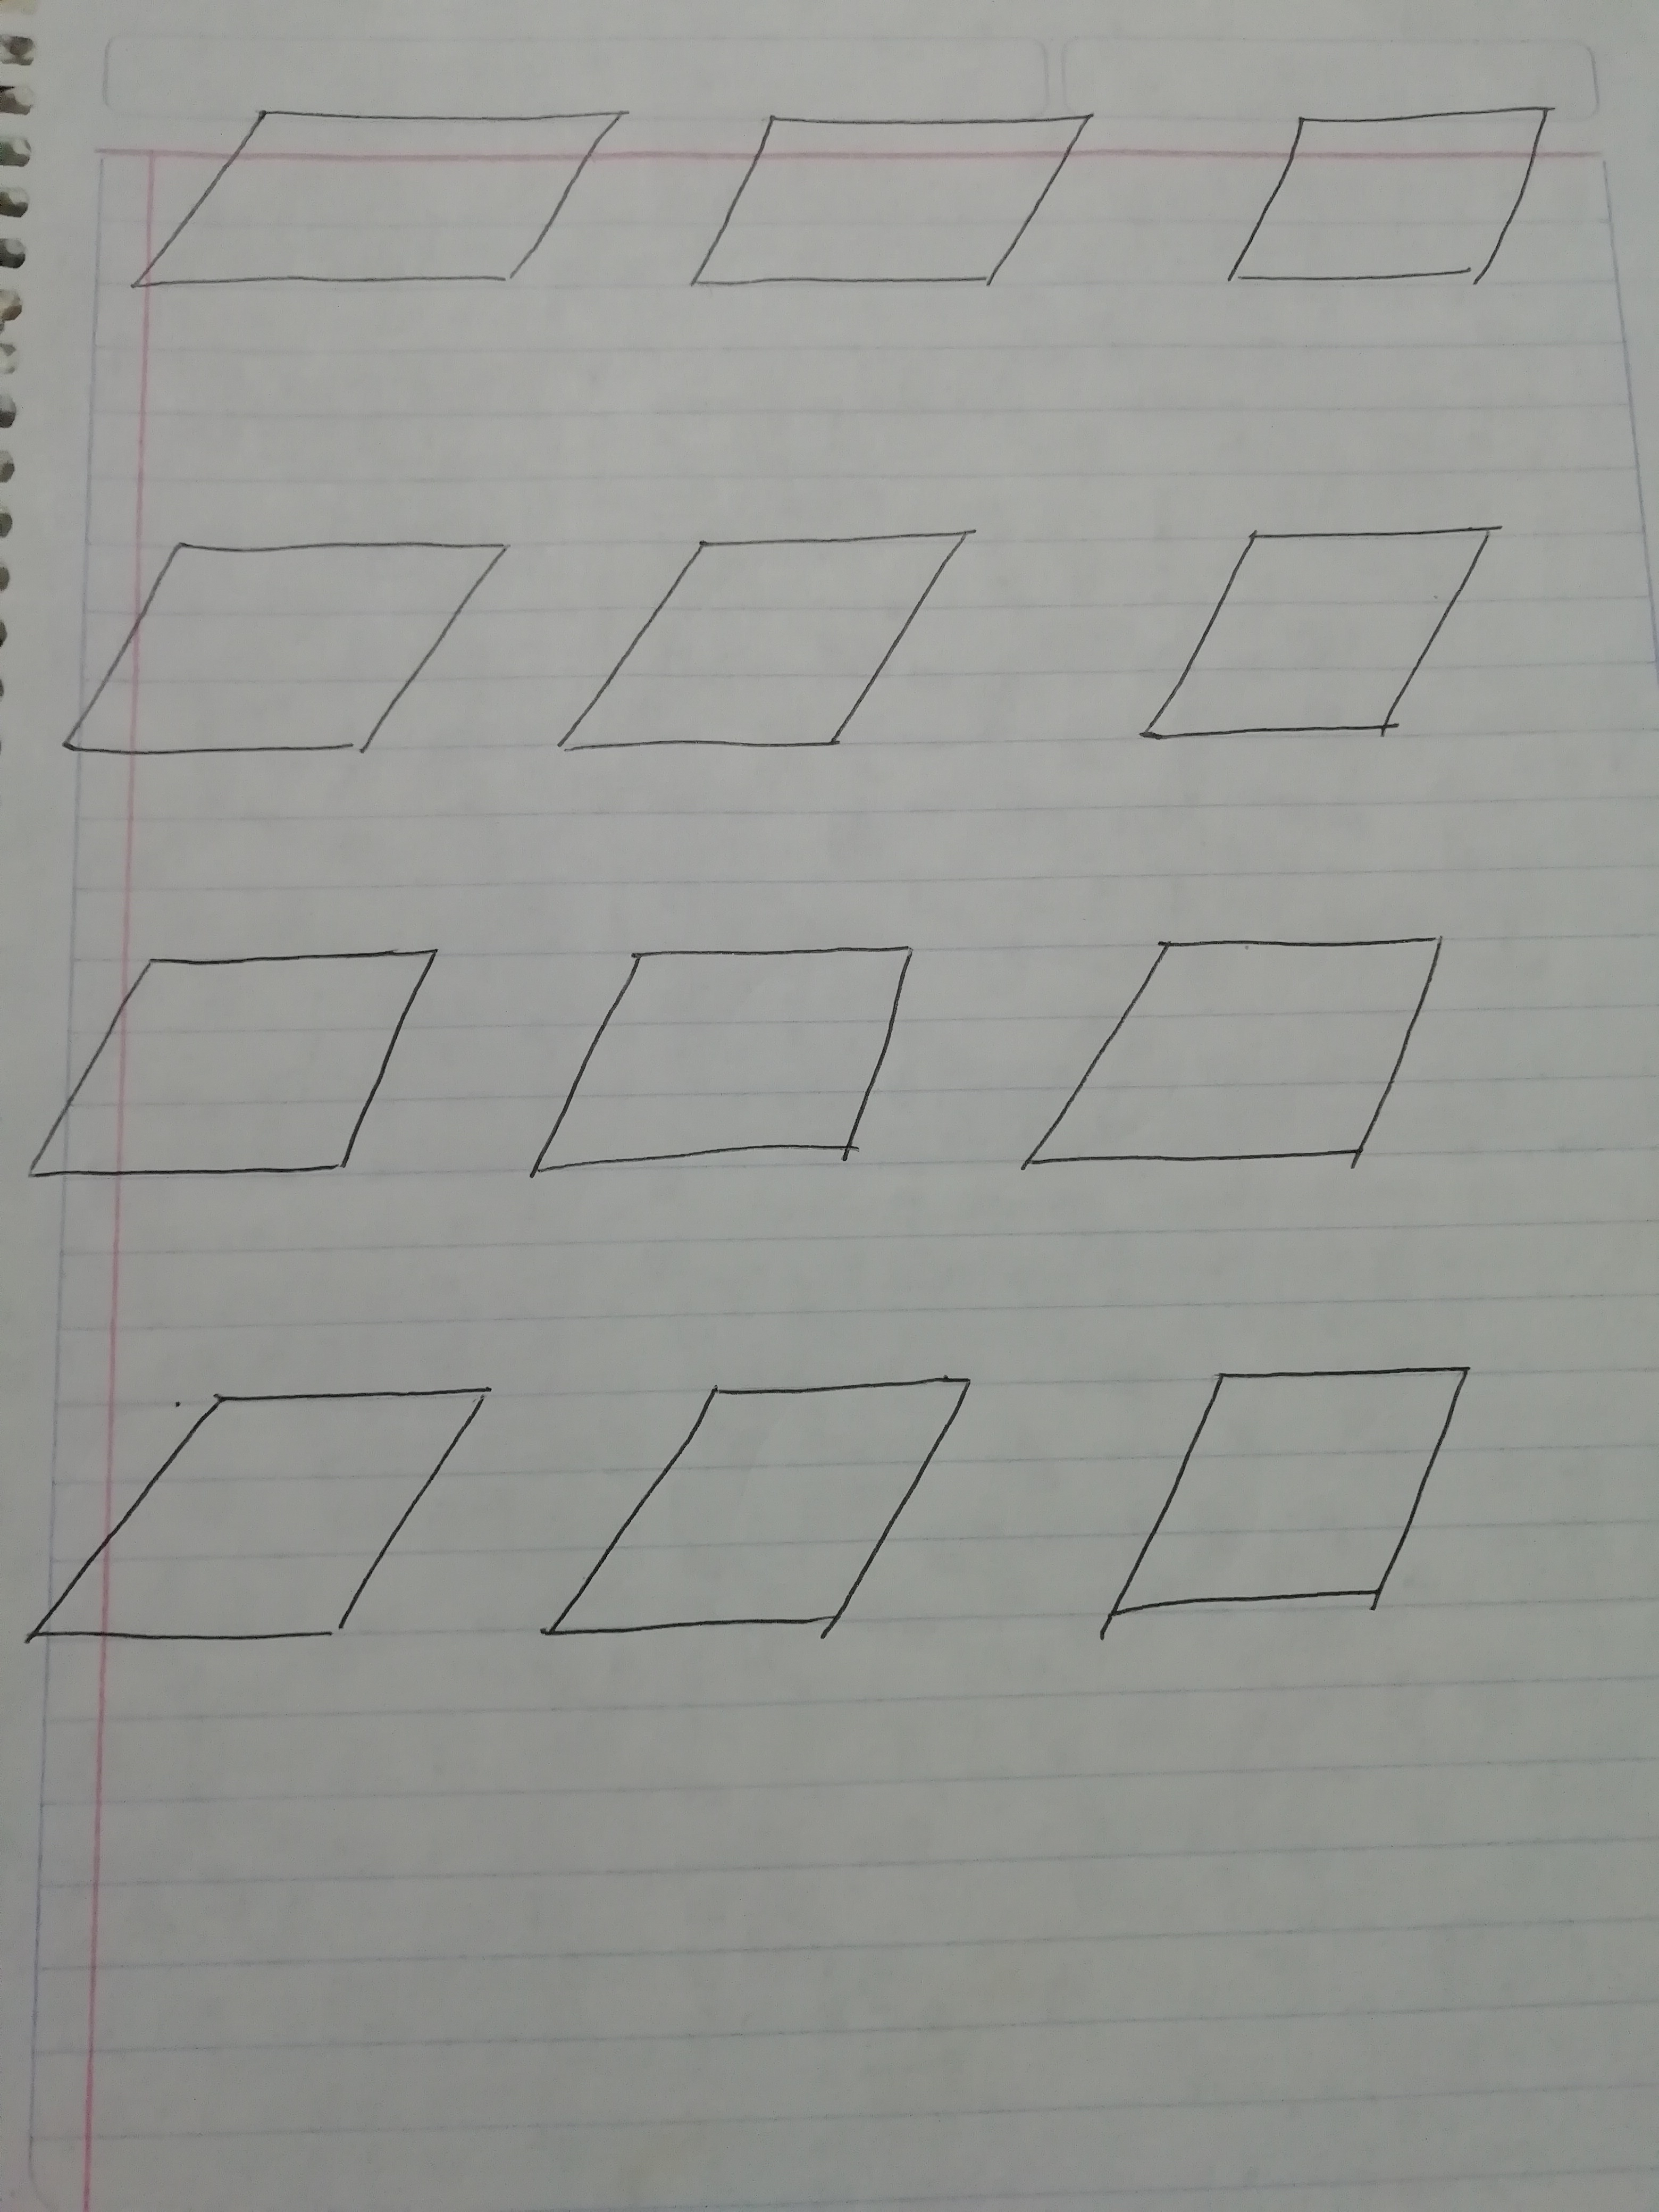scan: (9, 1332, 523, 1740), (530, 1350, 1026, 1723), (77, 49, 643, 336), (30, 493, 530, 812), (995, 904, 1483, 1226), (1072, 1339, 1493, 1688), (540, 493, 1002, 801), (2, 918, 465, 1219), (502, 918, 948, 1216), (1103, 489, 1537, 780), (671, 71, 1129, 336), (1204, 64, 1593, 326)
